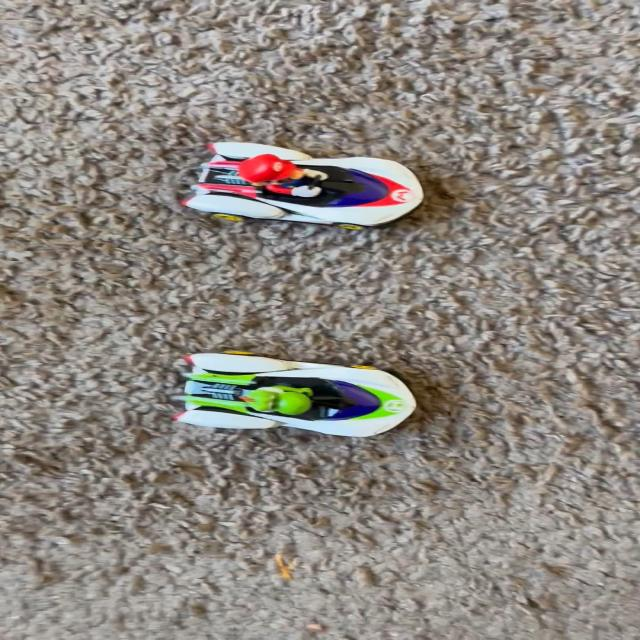mario: (176, 125, 435, 233)
yoshi: (133, 328, 435, 450)
